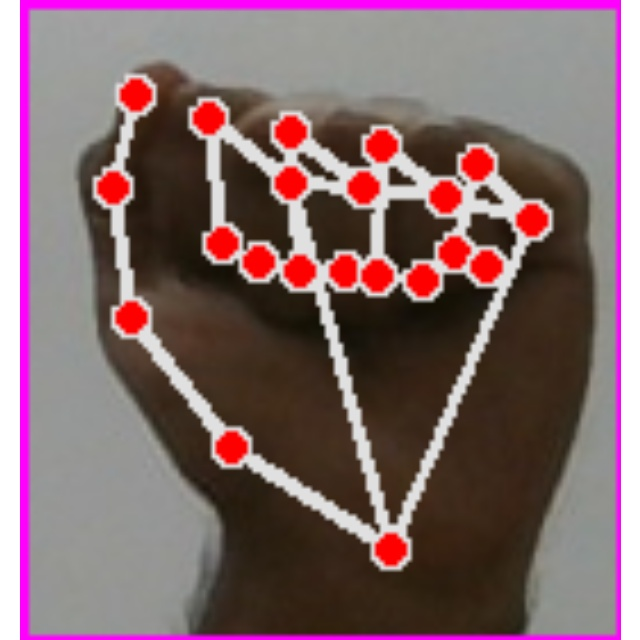A: (20, 0, 621, 640)
